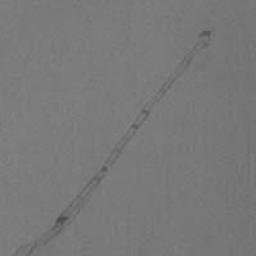Water spot: (8, 28, 212, 256)
